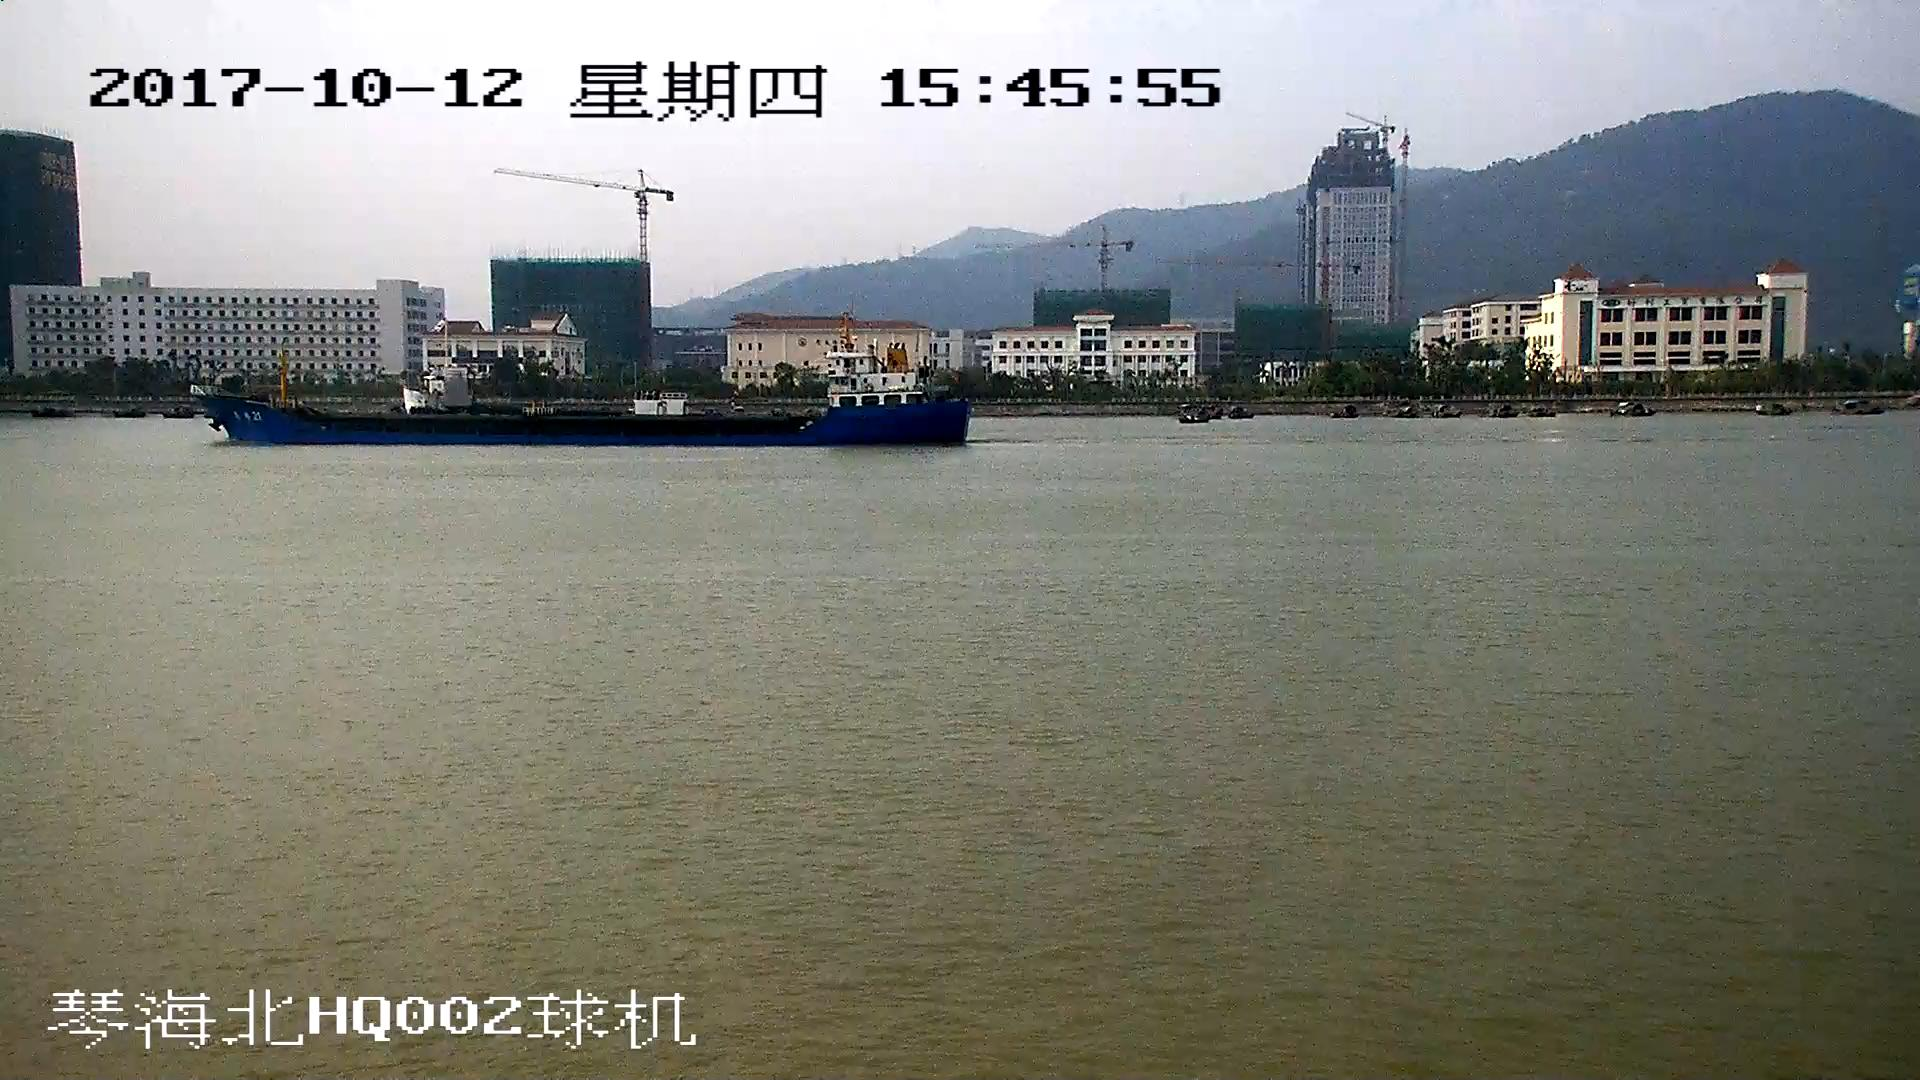general cargo ship: (193, 344, 971, 452)
